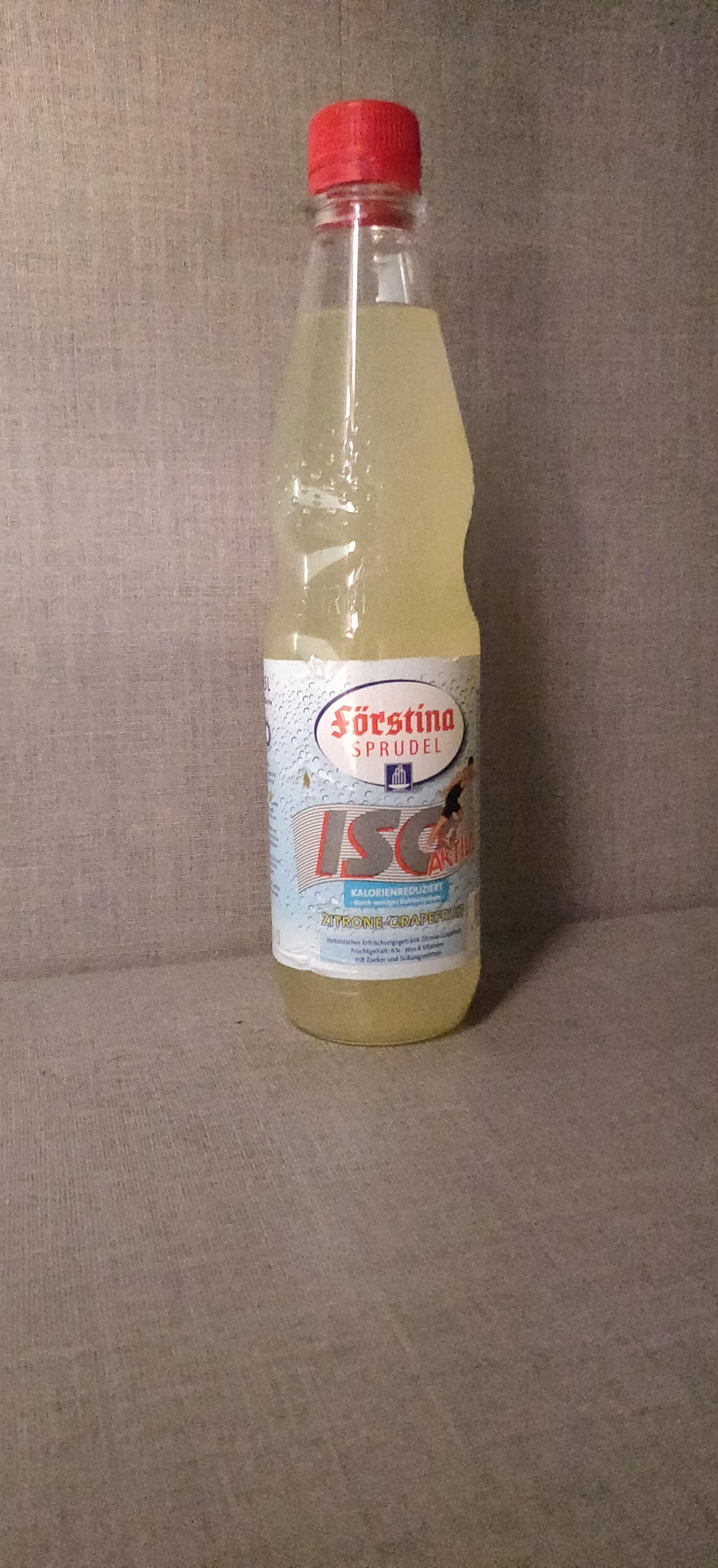bottle-plastic: (254, 95, 494, 1049)
